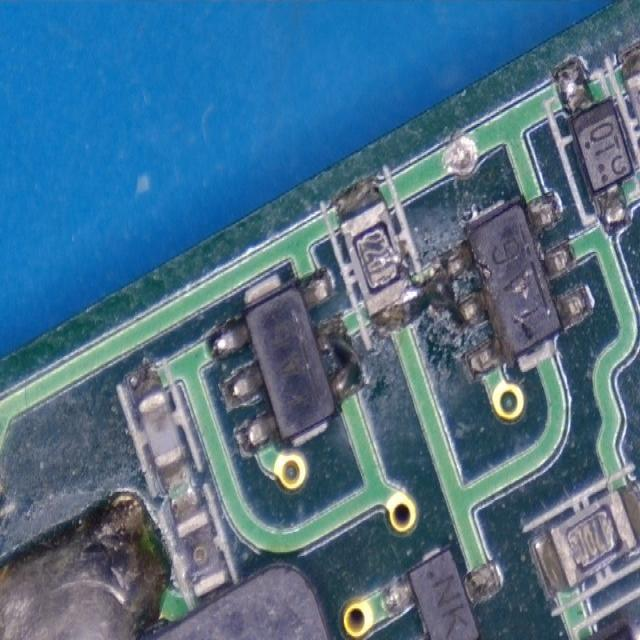Short_circuit: (366, 240, 489, 330), (313, 311, 365, 402)
